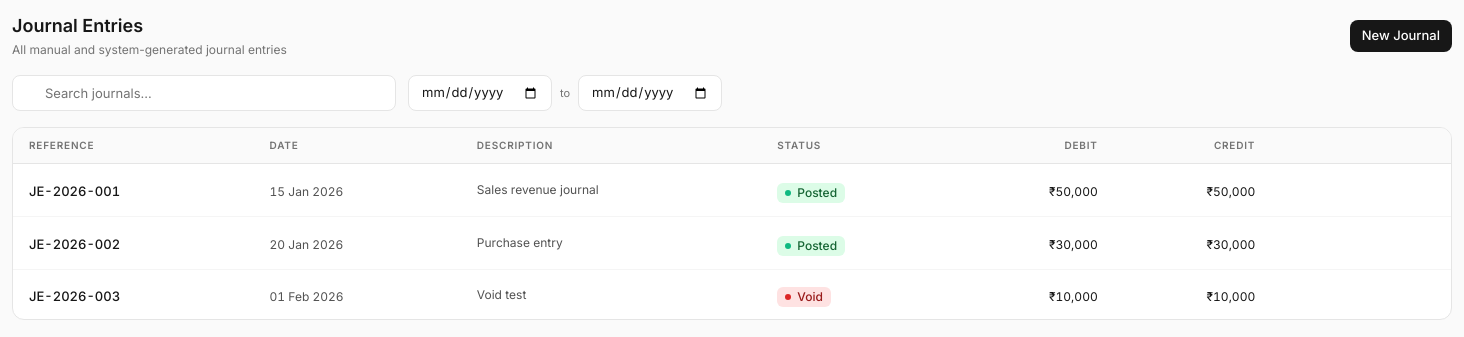
JournalsPage › filters journals by keyword
Type "Sales revenue" into the field with placeholder "Search journals…" at (204, 93), box [12, 75, 396, 111]
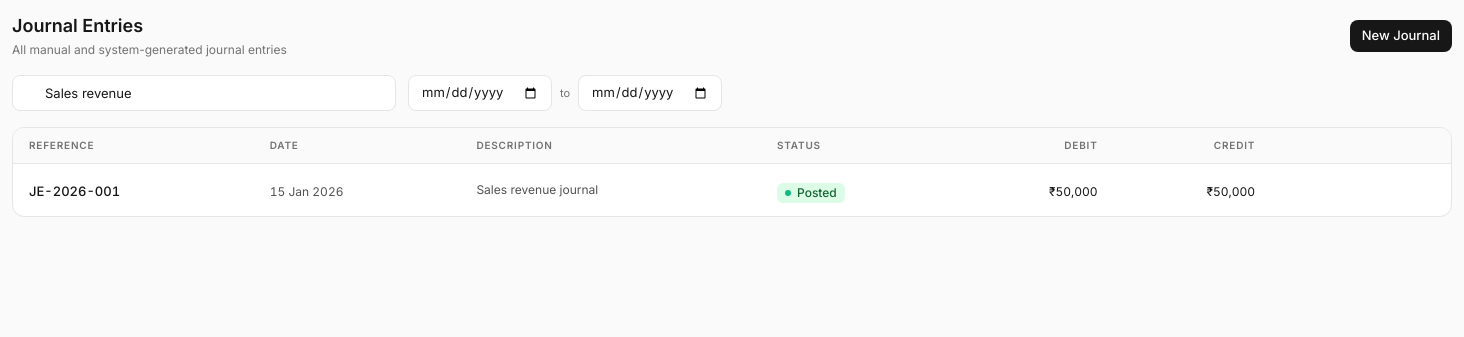
Expected: the text "JE-2026-001" is shown, [29, 183, 120, 199]
Result: the text "JE-2026-002" is gone
